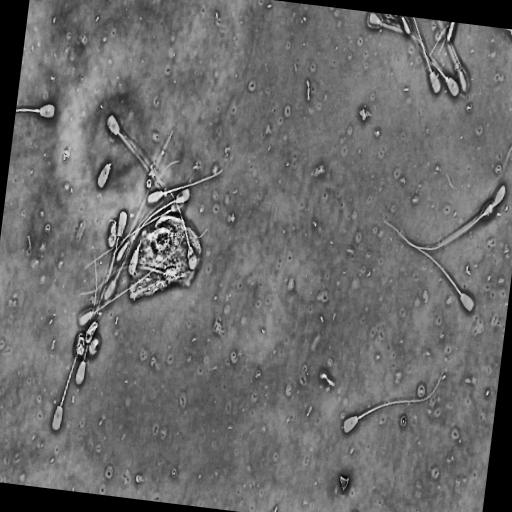coiled-tail: (85, 321, 98, 343), (86, 322, 97, 343)
dirt-particles: (126, 209, 204, 306), (86, 332, 102, 362), (318, 368, 337, 392), (74, 331, 87, 361), (337, 471, 352, 494), (358, 105, 372, 124)
loose-head: (95, 159, 112, 192)
normal: (380, 219, 477, 318), (49, 248, 99, 435), (78, 246, 184, 328), (76, 209, 128, 371), (106, 114, 183, 215), (342, 369, 446, 438), (143, 159, 198, 272), (382, 200, 495, 252), (144, 167, 225, 208)
